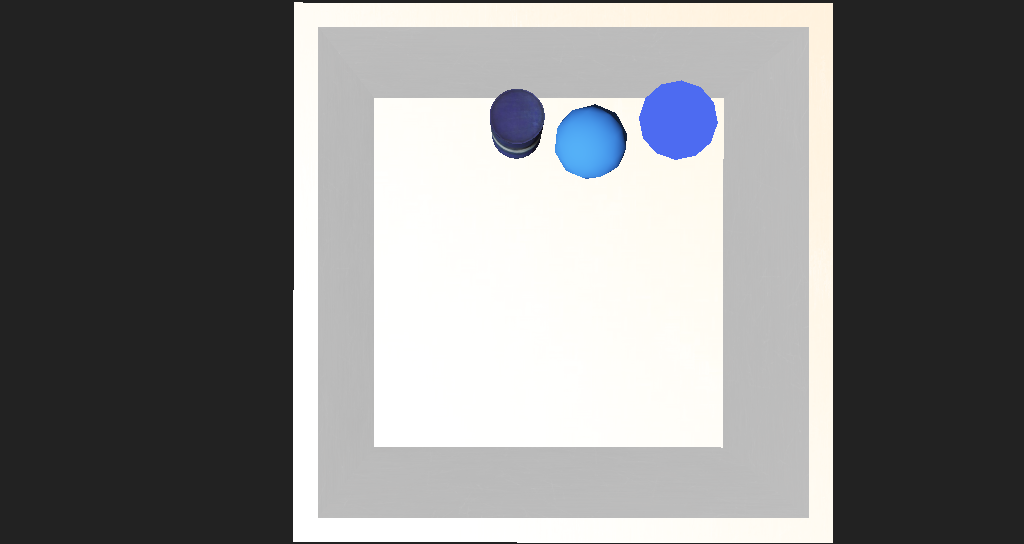cone: (455, 160, 502, 203)
cylinder: (576, 155, 650, 208)
sphere: (505, 169, 573, 212)
